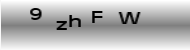9: (29, 7, 42, 21)
F: (90, 10, 105, 24)
W: (117, 11, 140, 25)
h: (67, 13, 83, 29)
z: (55, 19, 69, 31)
